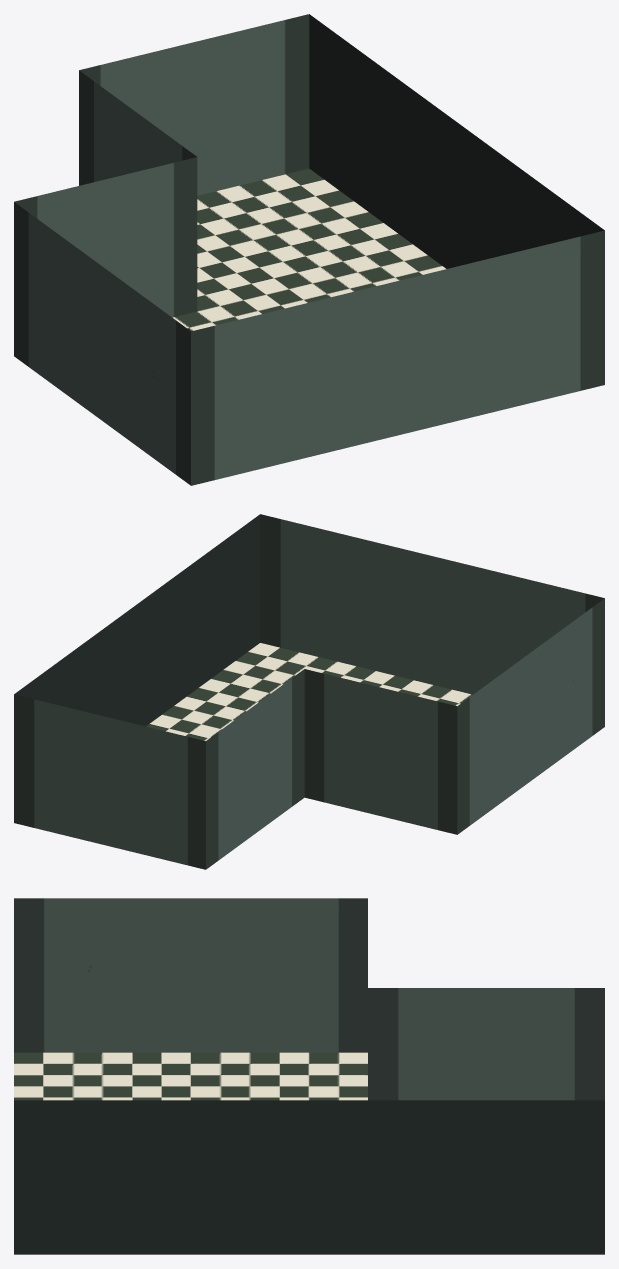
Rendered from tempLevelColor.glb.
3 views of the same model, one above another, from view 1: azimuth 30°, elevation 25°; view 2: azimuth 150°, elevation 25°; view 3: azimuth 270°, elevation 25° (orthographic). The views are drawn at different scales.
Parts seen in each view (by area): view 1: Cube-col; view 2: Cube-col; view 3: Cube-col.
Boxes of the visible parts, x1,y1,x2,y2 form: Cube-col: [14, 14, 604, 485]; Cube-col: [14, 514, 604, 869]; Cube-col: [14, 898, 604, 1254].
Size of the model in its own units: 8.94 by 3.19 by 11.06.
Materials: 1 (1 with a texture image).
